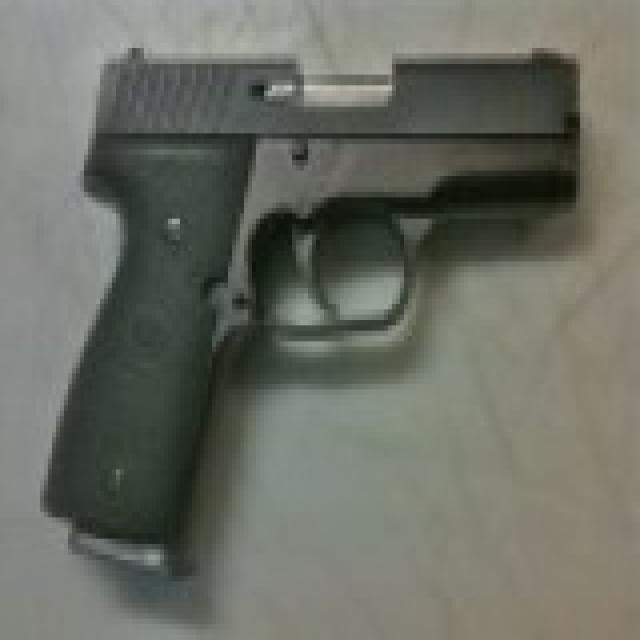gun: (38, 23, 601, 585)
